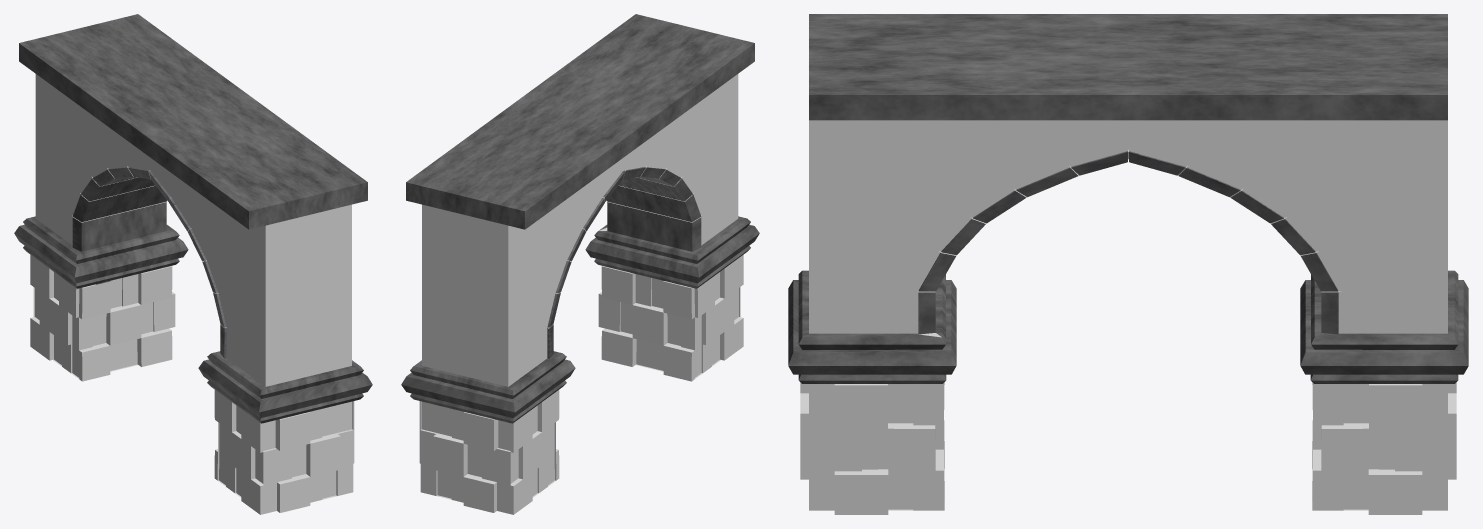
File: Muretto .fbx
The picture shows the model from 3 angles, left to right: view 1: azimuth 30°, elevation 25°; view 2: azimuth 150°, elevation 25°; view 3: azimuth 270°, elevation 25°; orthographic projection. The views are drawn at different scales.
Visible parts, largest first — view 1: Muretto 1; view 2: Muretto 1; view 3: Muretto 1.
Boxes of the visible parts, x1,y1,x2,y2 form: Muretto 1: (14,14,372,514); Muretto 1: (401,14,759,514); Muretto 1: (788,14,1468,514).
Size of the model in its own units: 51.12 by 126 by 182.
